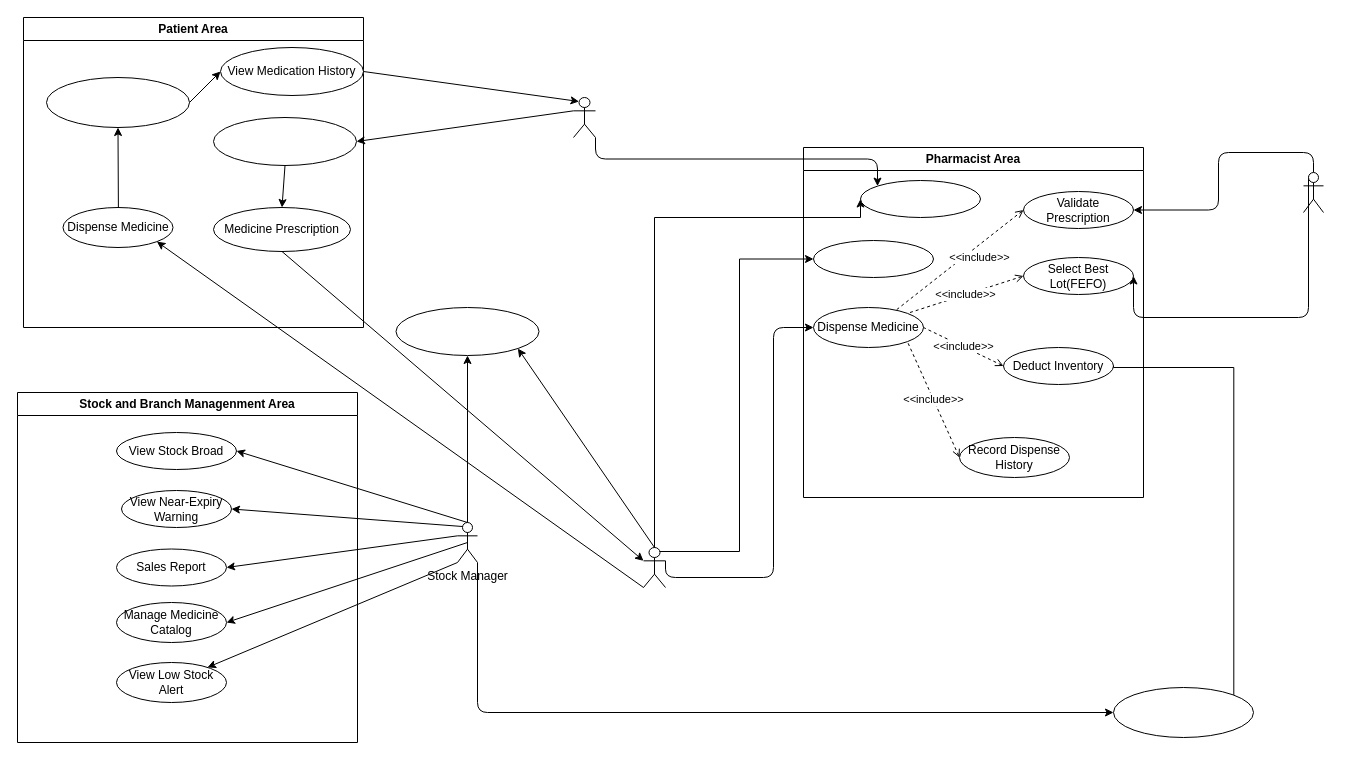
The diagram is 1351 pixels wide and 760 high, and some of its shapes have lost their labels. Each missing label, with the centre of its shape:
Check Stock Availability: point 873,259
Login/Logout: point 467,331
Order: point 284,141
Patient: point 584,117
Payment: point 118,102
Pharmacist: point 654,567
System: point 1313,192
Update and Synchorize Inveritory File: point 1183,712
View Prescription Detail: point 920,199
